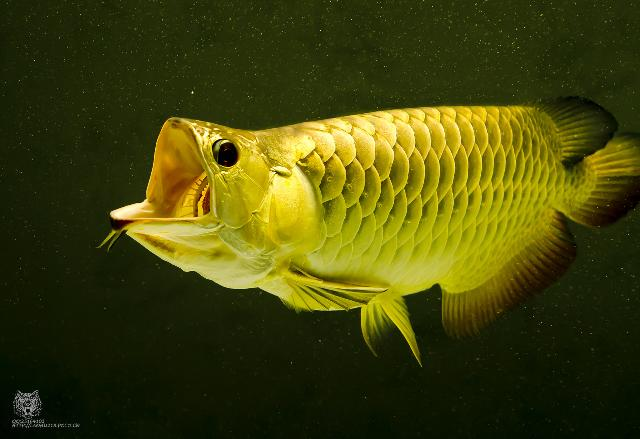Mulut: (79, 93, 251, 269)
Sirip Anal: (422, 205, 584, 350)
Sirip Dada: (270, 258, 392, 324)
Sirip Ekor: (552, 115, 640, 245)
Sirip Perut: (347, 289, 435, 377)
Sirip Punggung: (504, 76, 620, 172)
